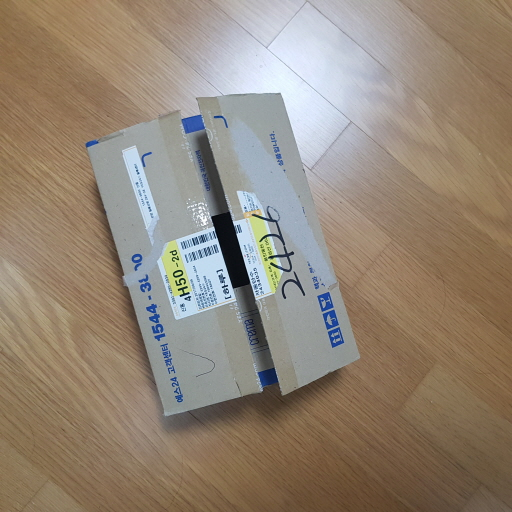Paper_0: (81, 87, 364, 421)
